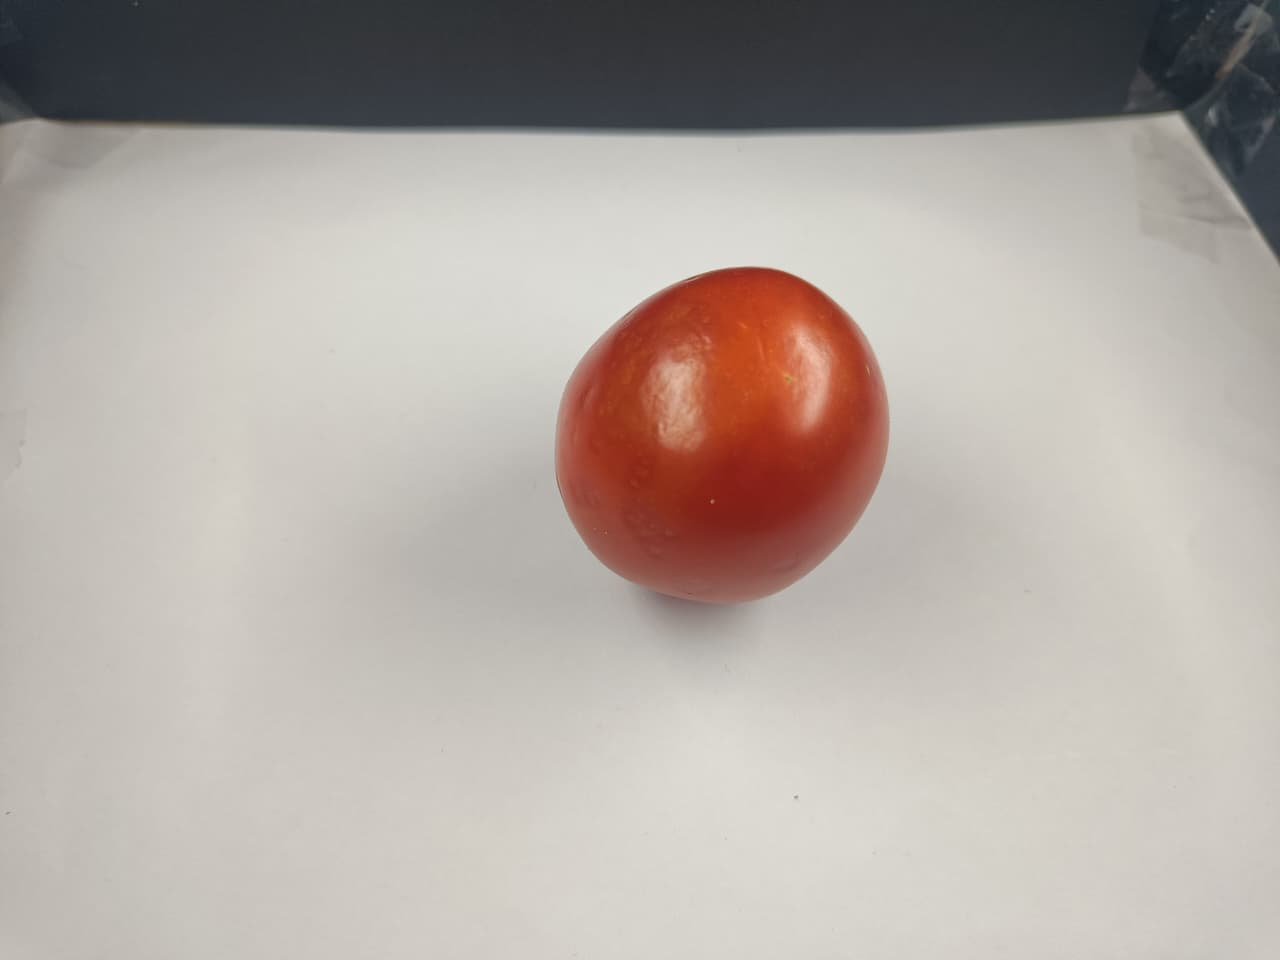ripe: (514, 248, 928, 617)
